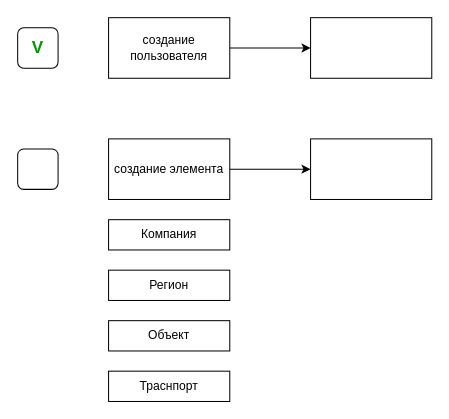
The diagram is 449 pixels wide and 419 high, and some of its shapes have lost their labels. The box of each missing label's shape, as (x1, y1, x2, y2) in pixels:
создание прав global: (310, 17, 432, 78)
создание права: (310, 138, 432, 199)
